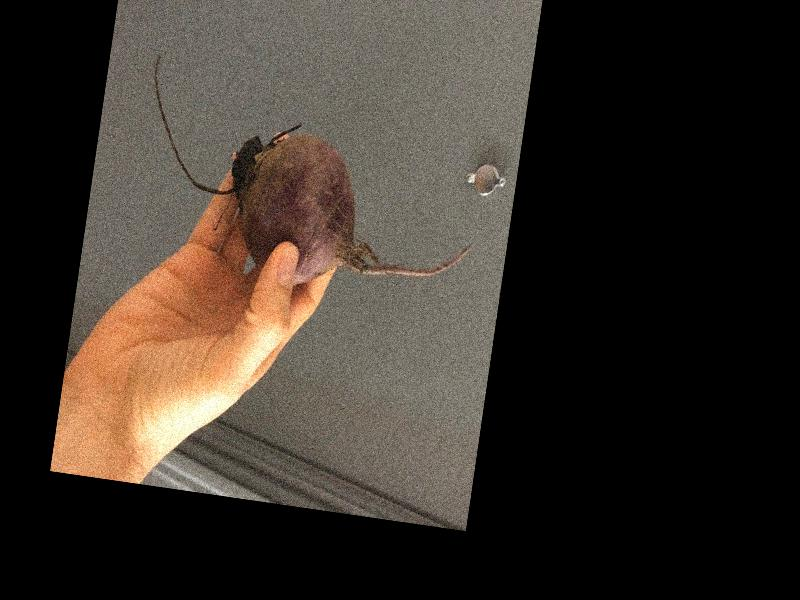Beet: (127, 52, 493, 309)
